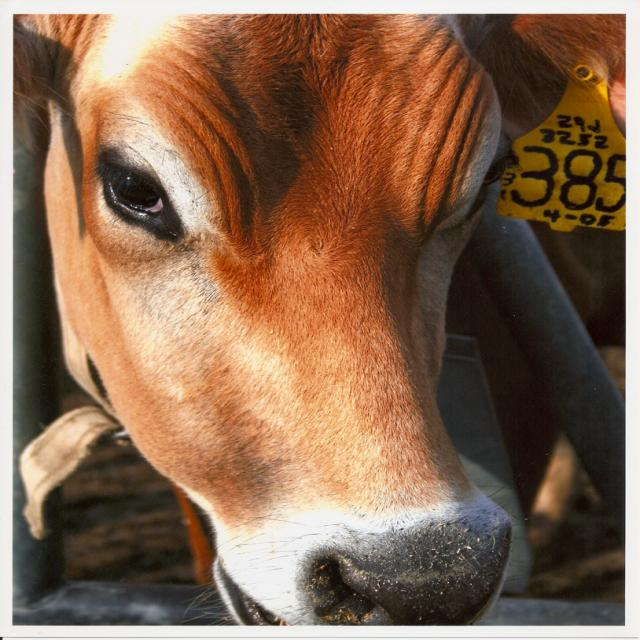Cattle: (14, 15, 627, 625)
